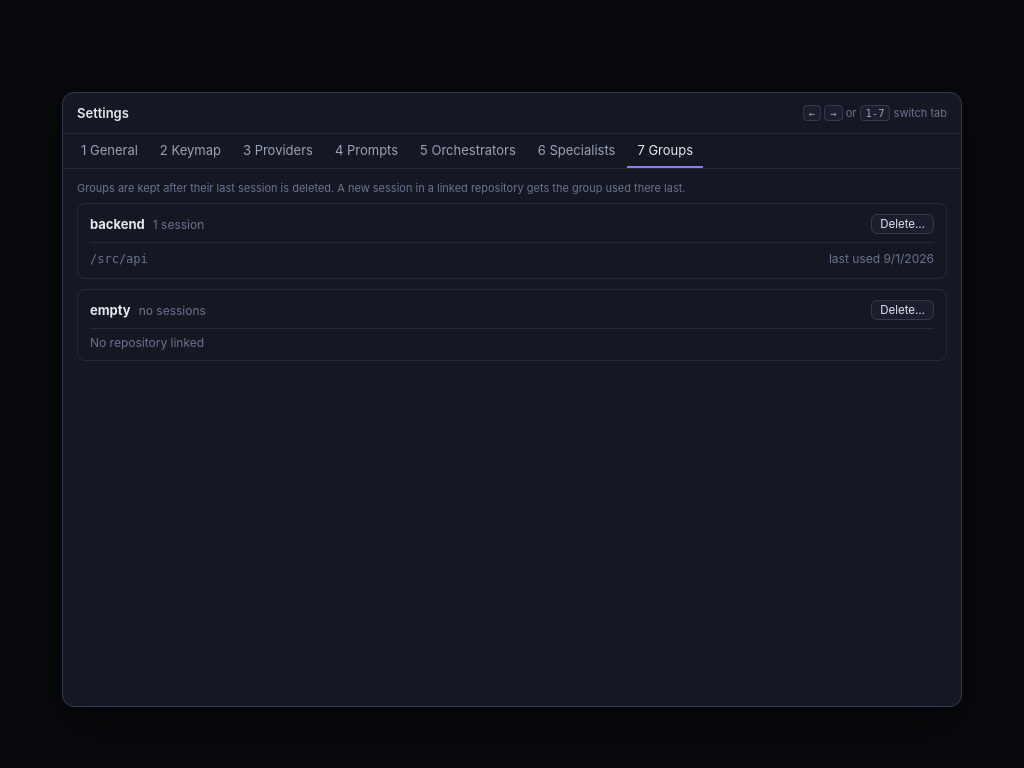
lists remembered groups with their repositories and deletes one after confirming
Check: the text "backend" is shown, box [90, 216, 145, 232]
Check: the text "/src/api" is shown, box [90, 252, 148, 266]
Click the button "Delete…" in the row of "1 session": (903, 224) [871, 214, 934, 234]
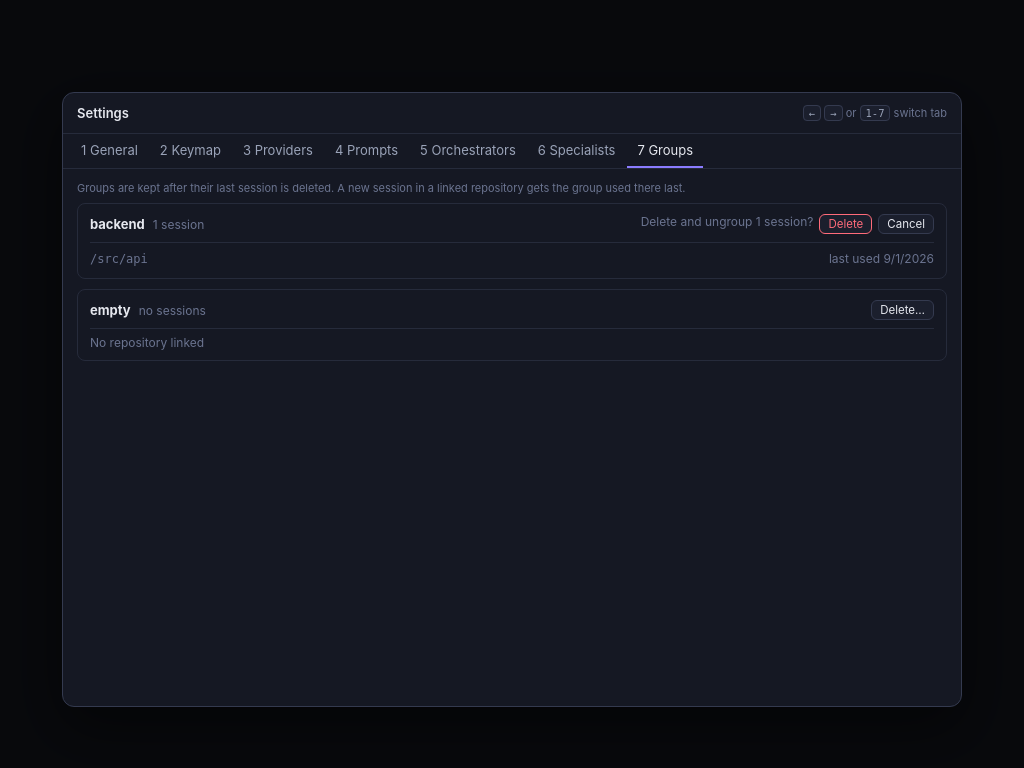
Check: the text "Delete and ungroup 1 session?" is shown, box [641, 214, 814, 234]
Click the button "Delete": (846, 224) [819, 214, 872, 234]
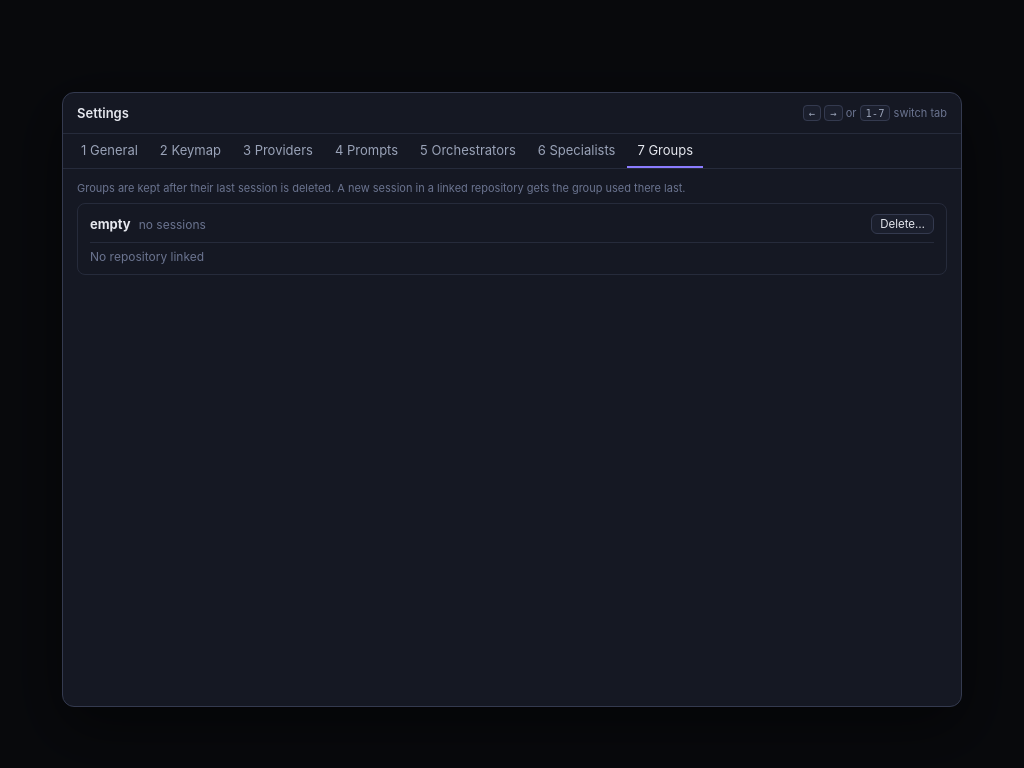
Check: the text "empty" is shown, box [90, 216, 131, 232]
Check: the text "backend" is gone
